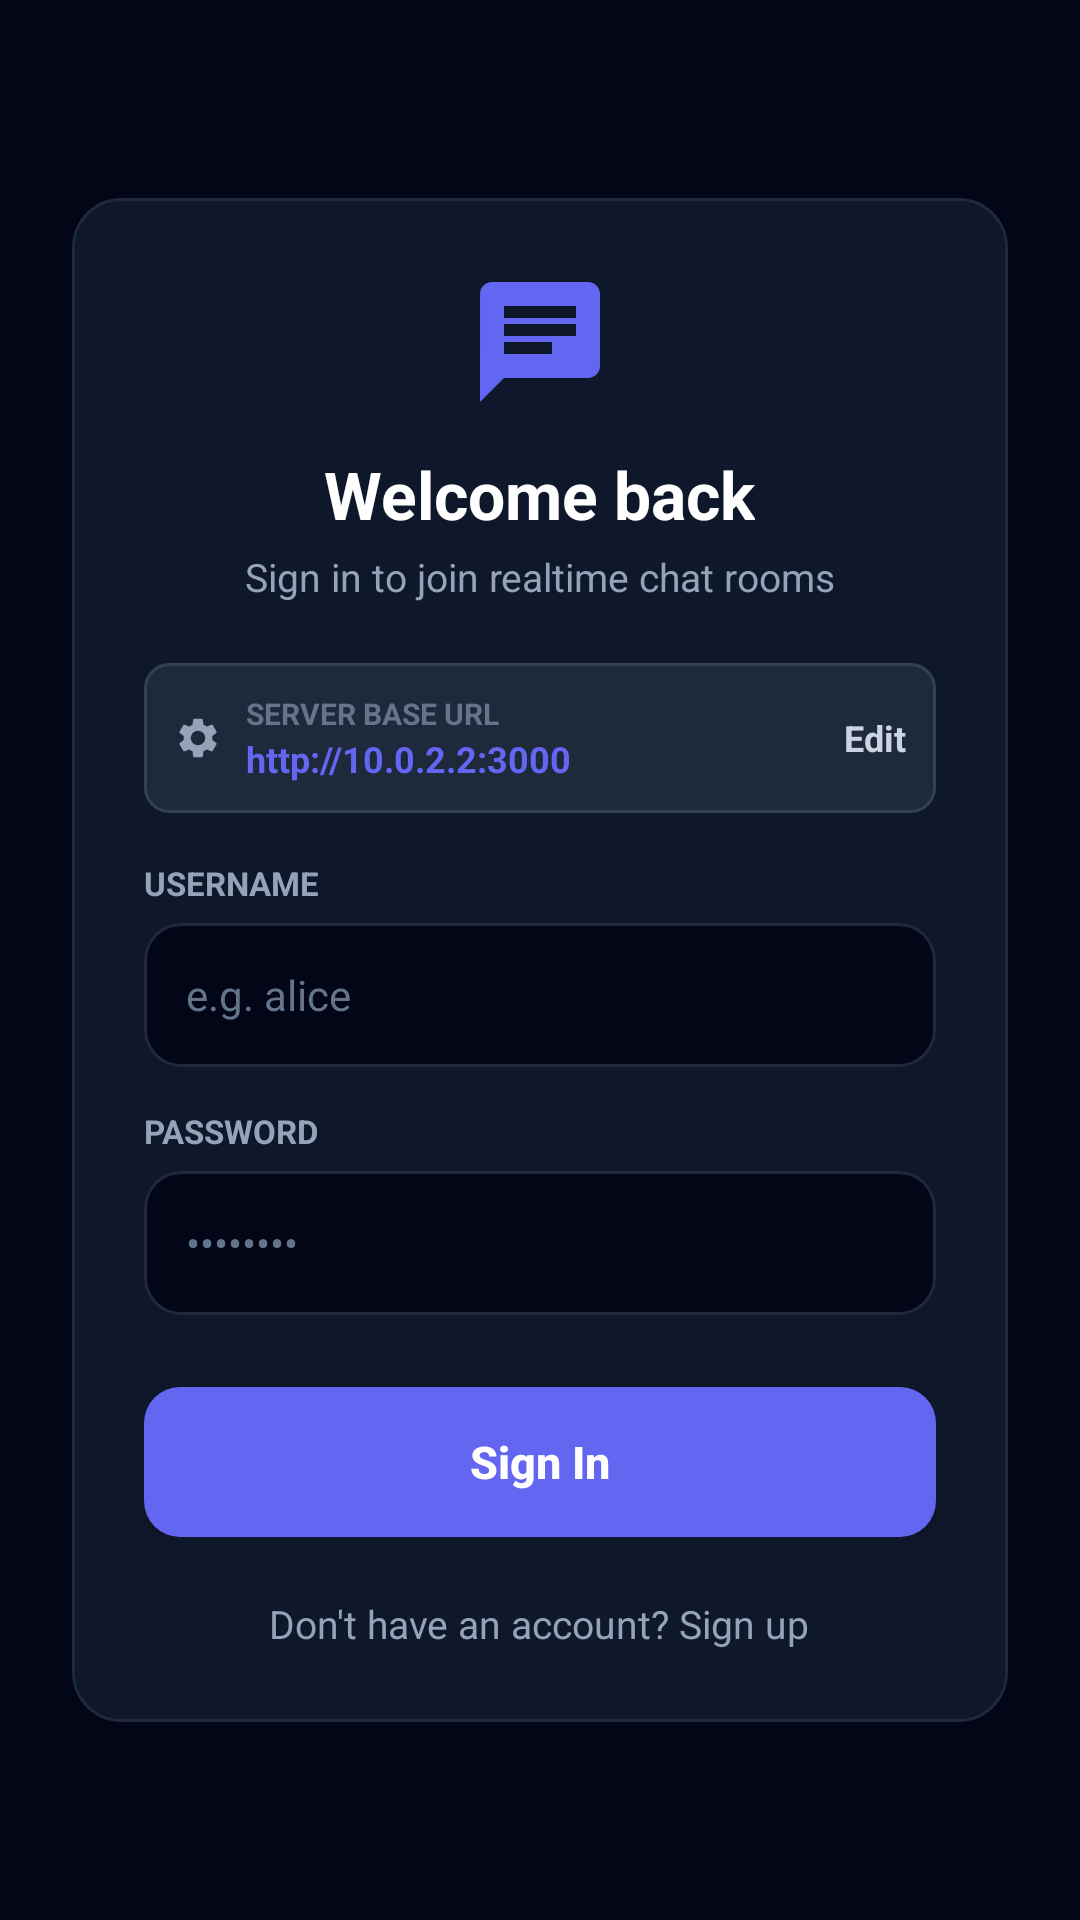

Icon click points for this 1080x1920 phone screenshot, format [x,y]:
settings: [198,738]
